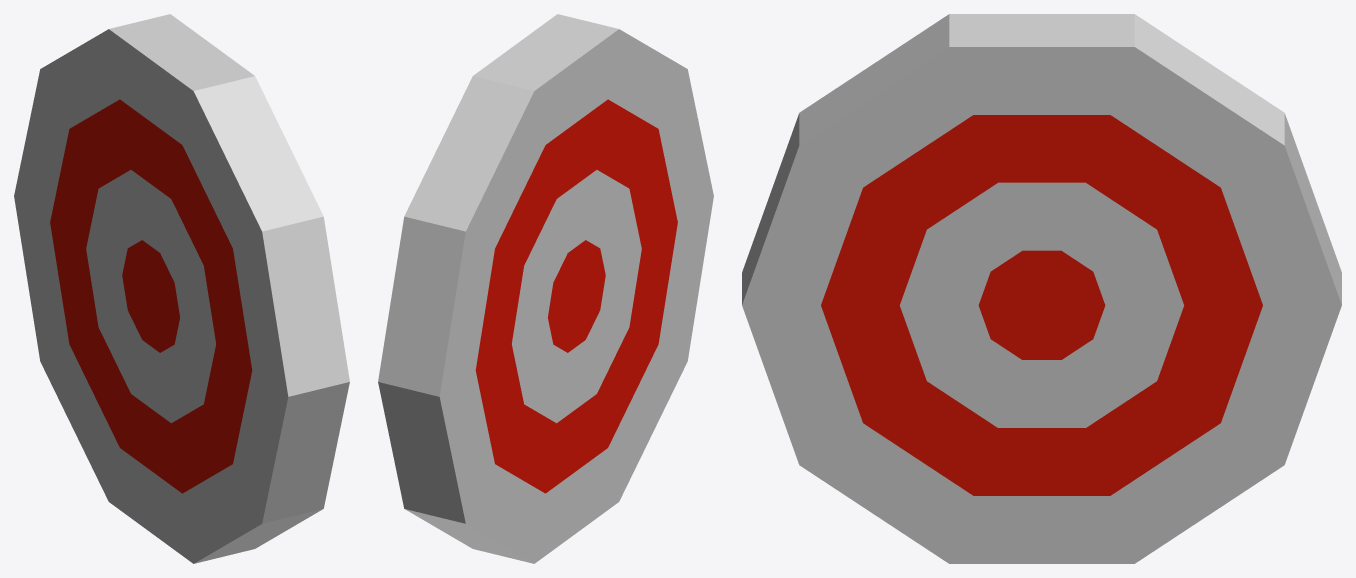
The model's file is target.fbx.
The picture shows the model from 3 angles, left to right: view 1: azimuth 30°, elevation 25°; view 2: azimuth 150°, elevation 25°; view 3: azimuth 270°, elevation 25°; orthographic projection. The views are drawn at different scales.
Parts seen in each view (by area): view 1: Target; view 2: Target; view 3: Target.
Part boxes in pixels (x1=…): Target: x1=14, y1=14, x2=349, y2=563; Target: x1=378, y1=14, x2=713, y2=563; Target: x1=742, y1=14, x2=1341, y2=563.
Bounding box in the file's own units: 26.84 × 197 × 207.
